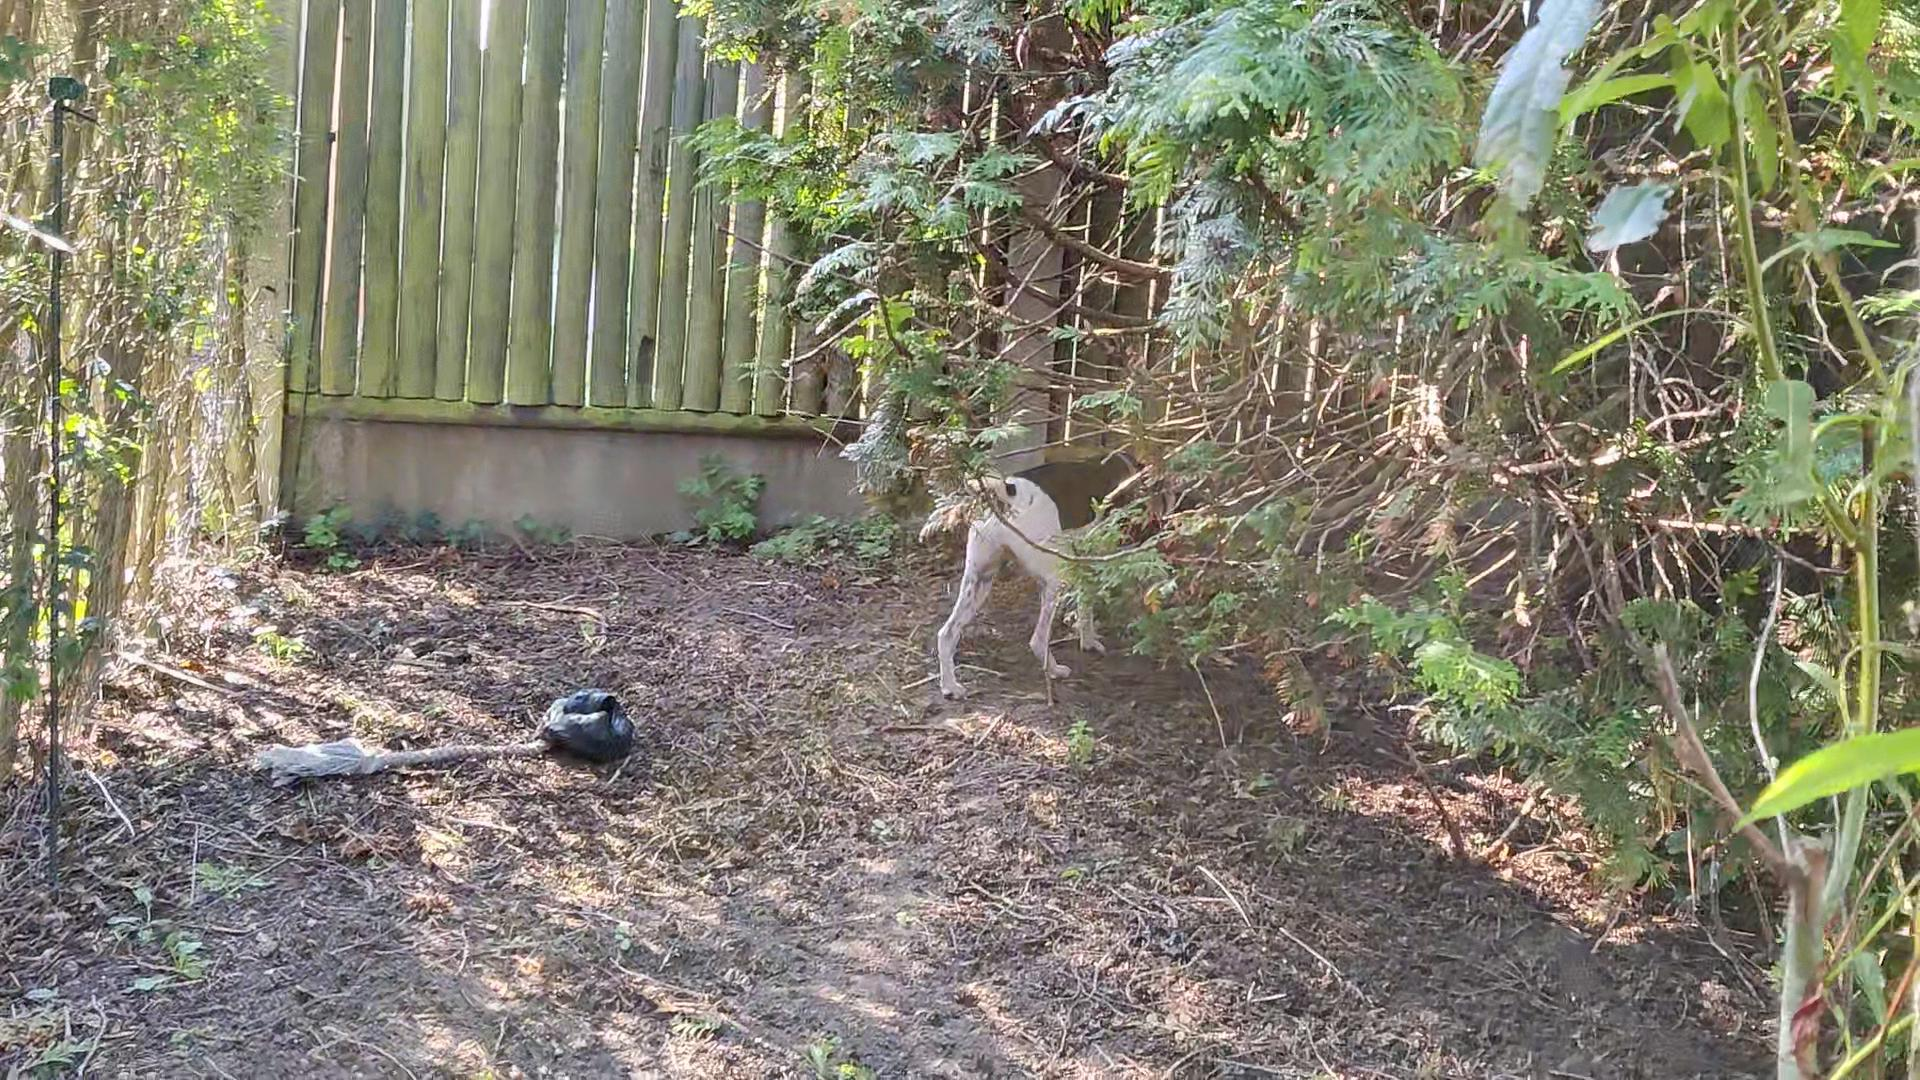Dog: (932, 451, 1209, 703)
